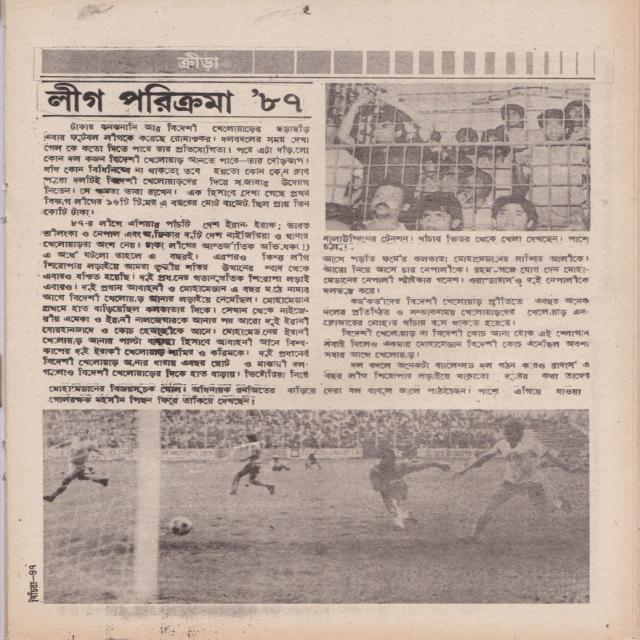caption: (43, 382, 585, 406), (320, 232, 591, 251)
image: (44, 410, 590, 603), (326, 83, 588, 228)
page number: (28, 564, 37, 575)
paragraph: (35, 216, 315, 380), (40, 120, 313, 216), (319, 252, 592, 297), (321, 294, 590, 328), (323, 327, 592, 360), (321, 358, 593, 381)
text: (27, 581, 39, 602)
title: (47, 80, 306, 116), (171, 50, 220, 72)
